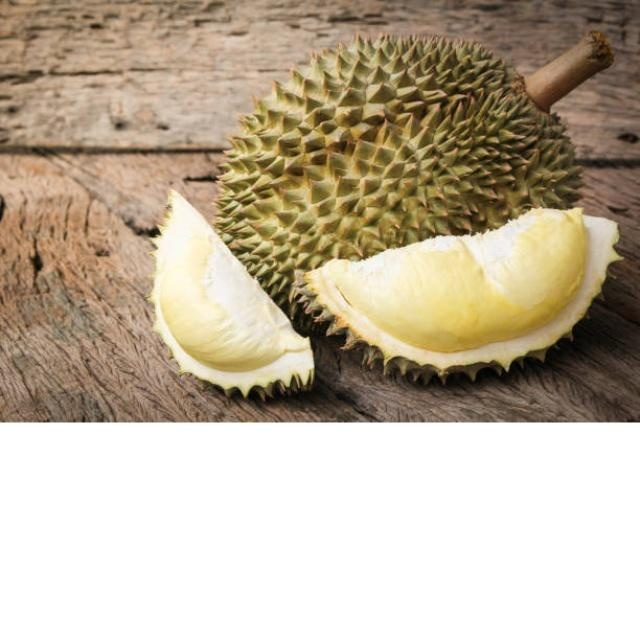sau_rieng: (217, 35, 579, 309)
